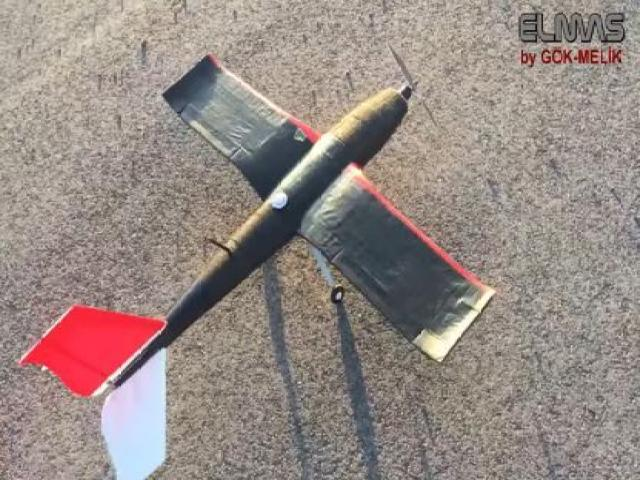uav: (19, 50, 498, 479)
